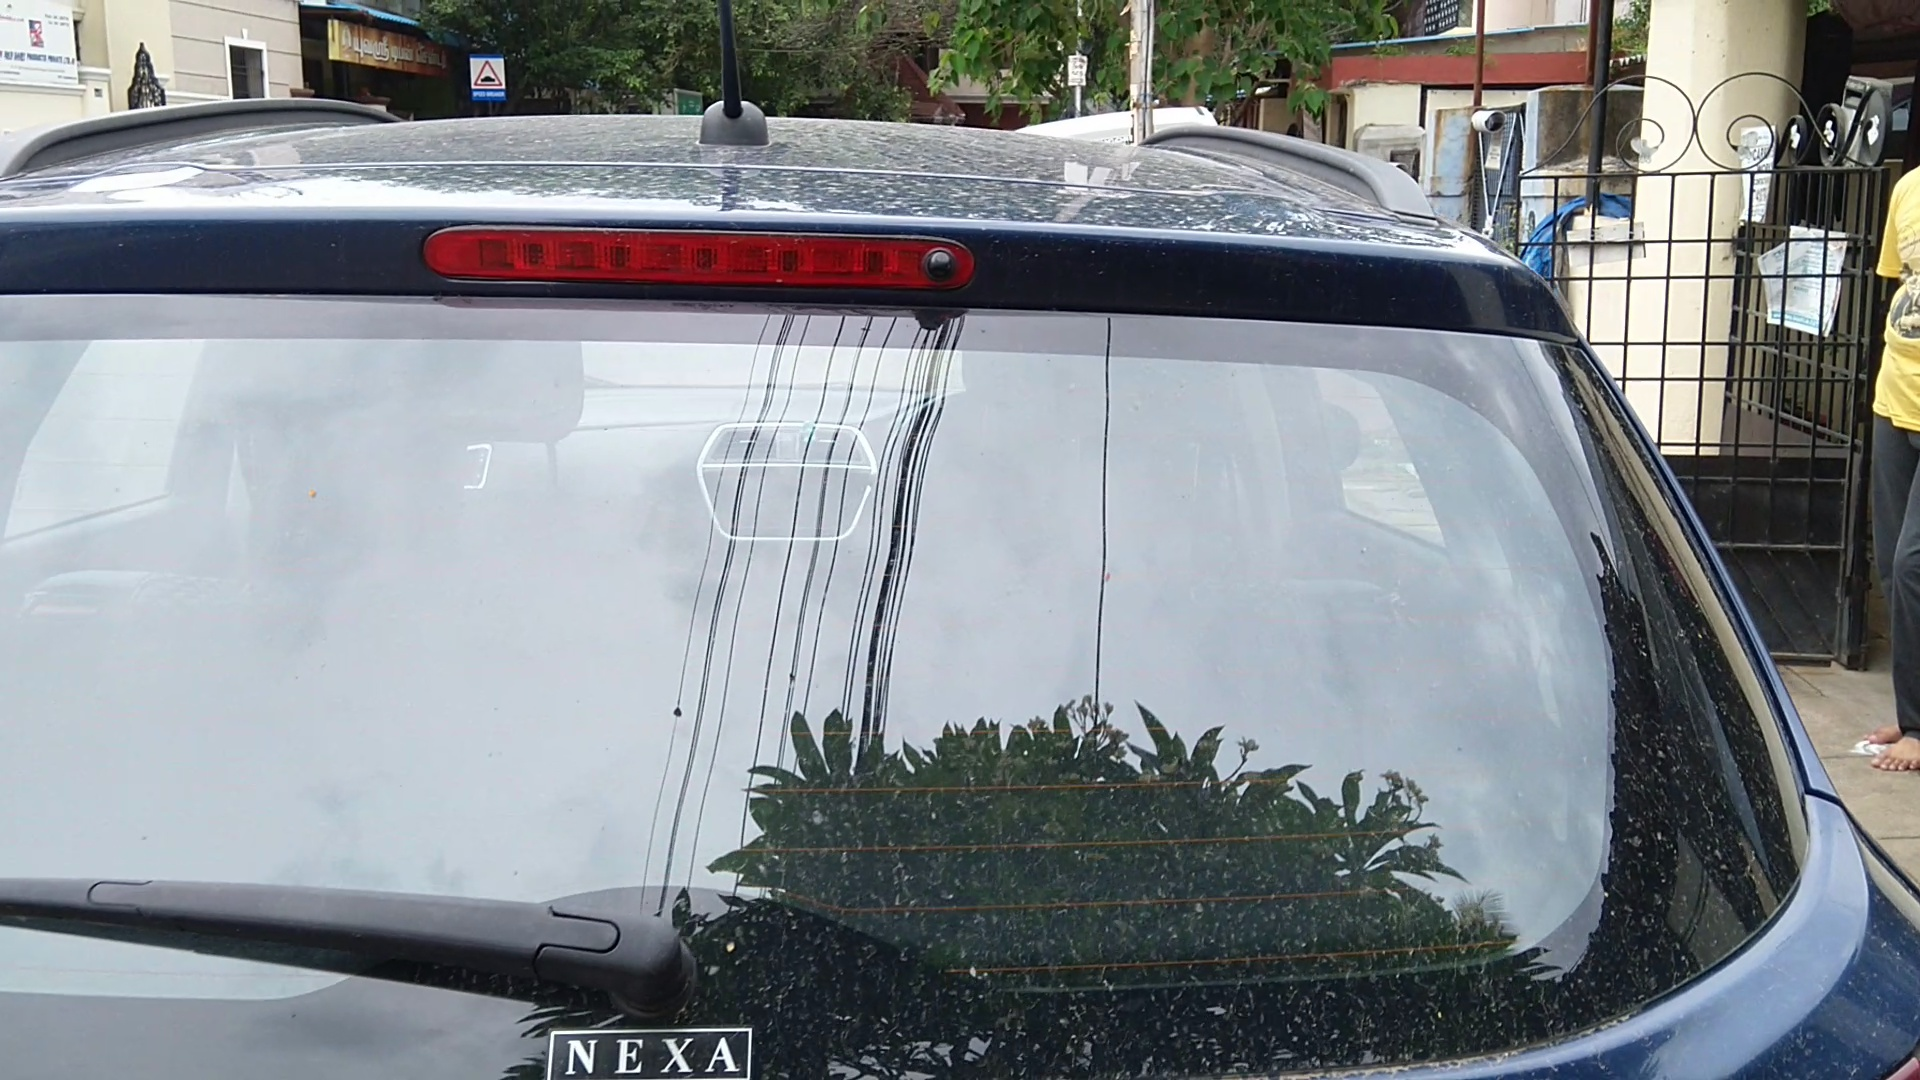rear_camera: (916, 240, 973, 290)
